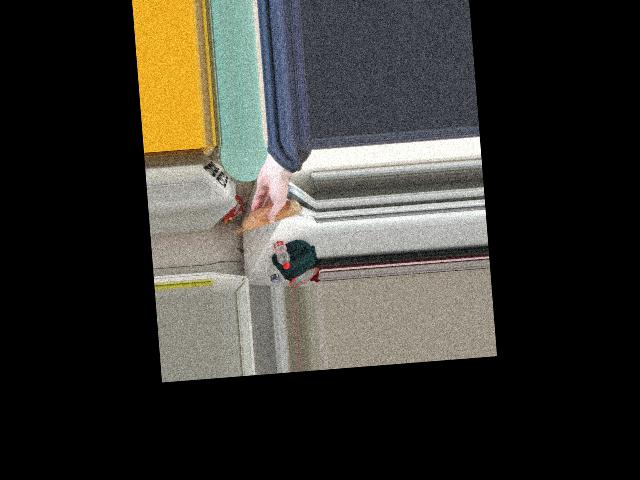sweet_potato: (233, 196, 299, 237)
